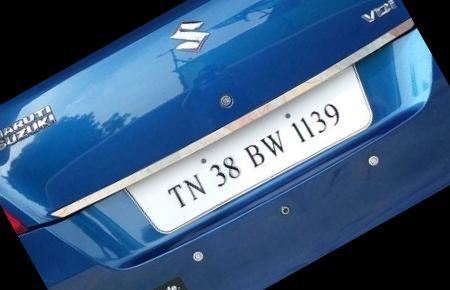plate: (111, 39, 402, 258)
